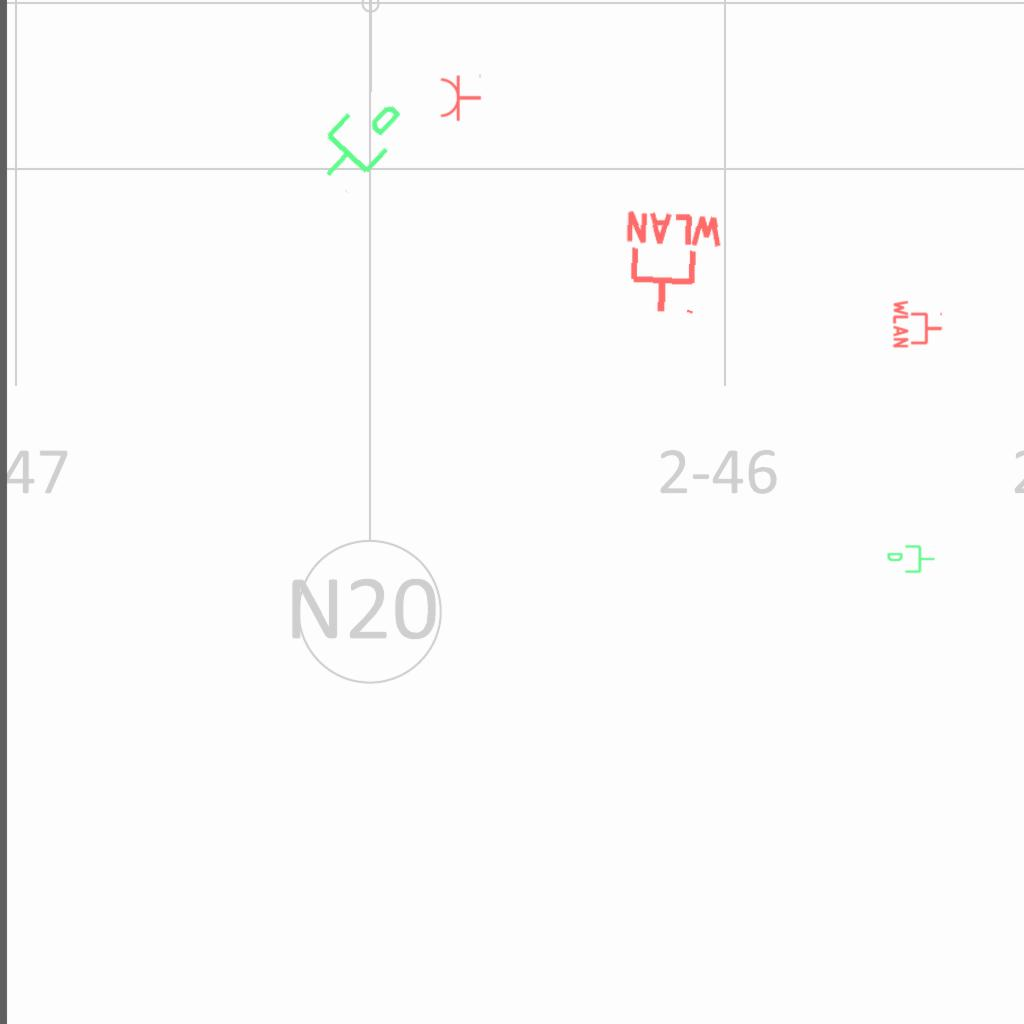Datenanschluss_einfach: (299, 78, 418, 200), (886, 543, 936, 577)
Schukosteckdose_einfach: (439, 72, 482, 122)
WLAN: (617, 208, 728, 320), (892, 298, 944, 350)
